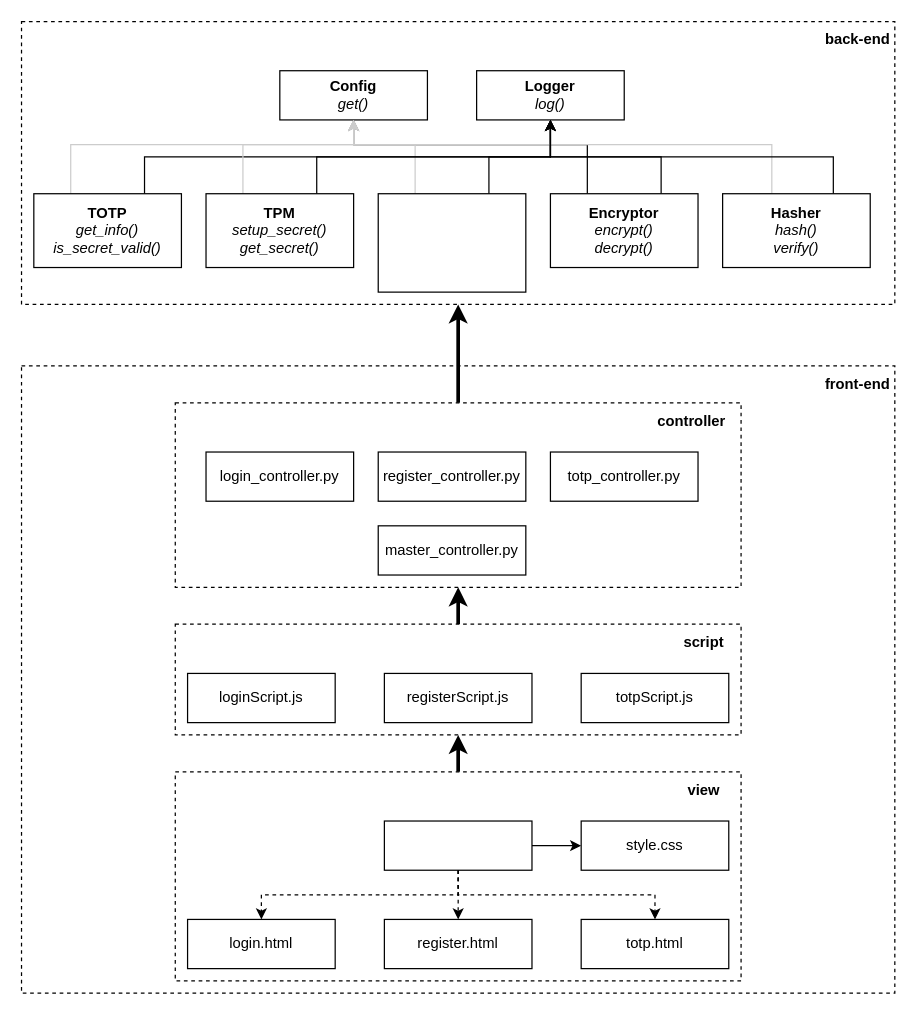
Image size: 916x1015. Some labels were removed from this diagram. The shapes that lost their labels are listed below. From the top down, each one's centre as x and y in pixels, then its label:
the point at 451,242: Storage add_secret() remove_secret() get_secret()
the point at 457,845: index.html
